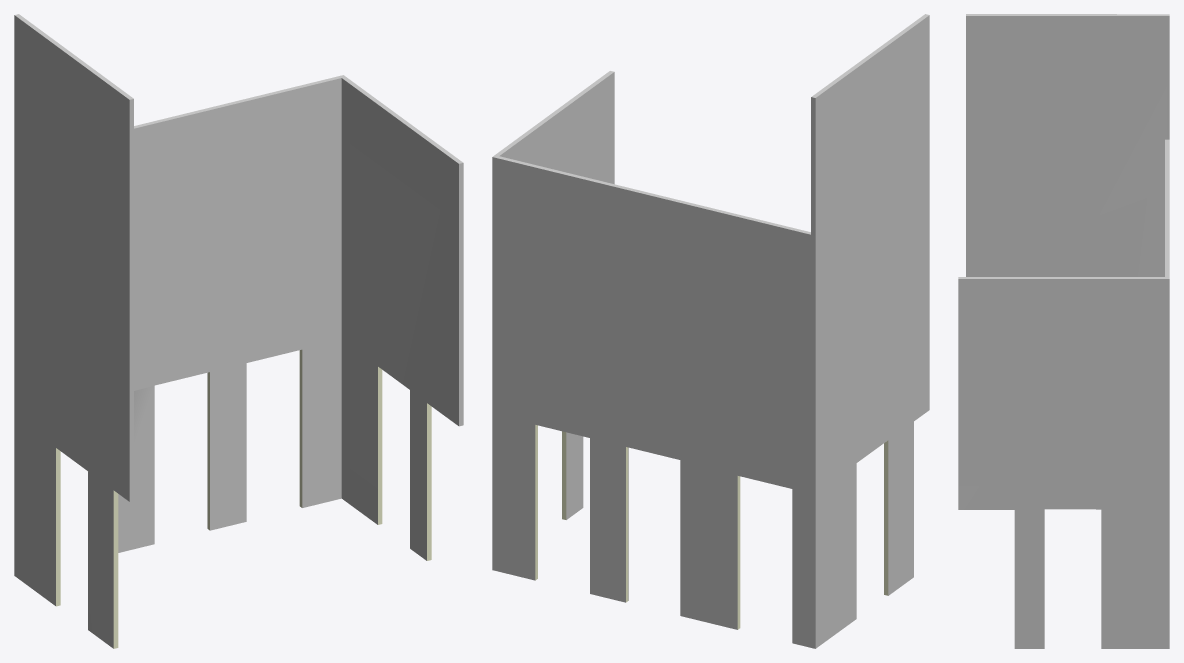
File: project19.glb
The picture shows the model from 3 angles, left to right: view 1: azimuth 30°, elevation 25°; view 2: azimuth 150°, elevation 25°; view 3: azimuth 270°, elevation 25°; orthographic projection. The views are drawn at different scales.
Parts seen in each view (by area): view 1: gipsz - finom fehér; view 2: gipsz - finom fehér; view 3: gipsz - finom fehér.
Part boxes in pixels (x1,y1,x2,y2): gipsz - finom fehér: [14, 14, 463, 648]; gipsz - finom fehér: [492, 14, 929, 648]; gipsz - finom fehér: [958, 14, 1169, 648].
Bounding box in the file's own units: 7.38 × 12 × 4.65.
